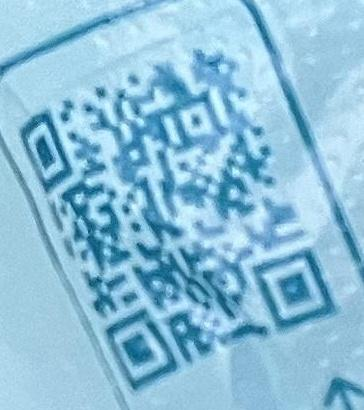qrcode: (20, 49, 339, 390)
